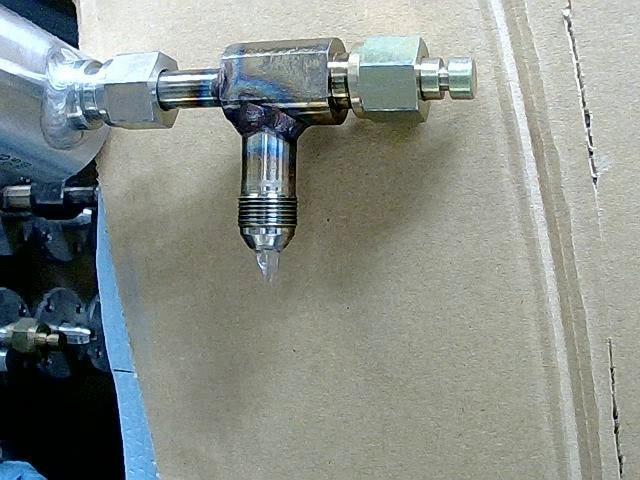water drop: (257, 252, 279, 283)
